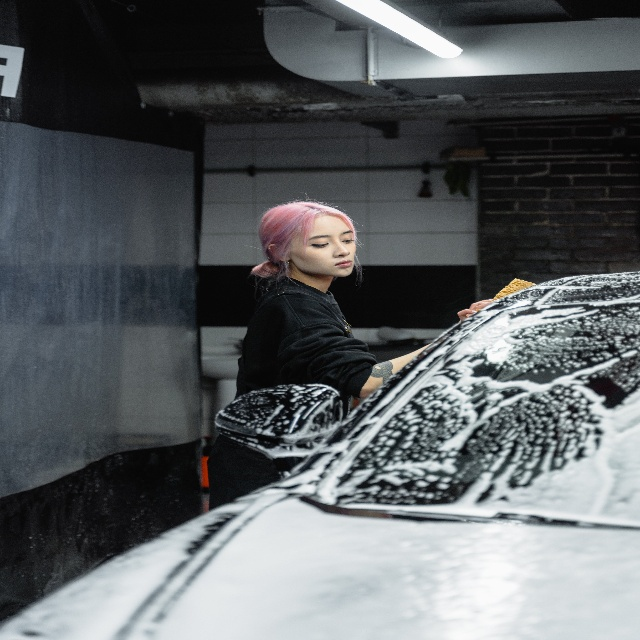Sin_guantes: (457, 299, 493, 322)
